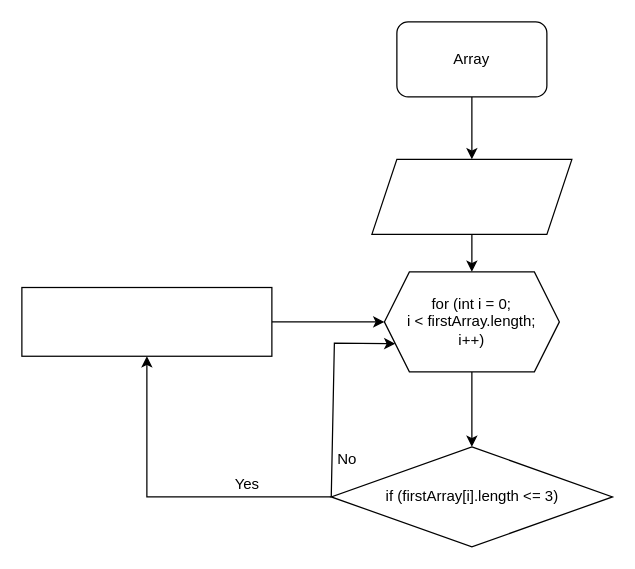
Image size: 635x569. Some labels were removed from this diagram. The box of each missing label's shape, as (x1, y1, x2, y2) in pixels:
secondArray[count] = firstArray[i] count++;: (21, 286, 272, 356)
string[5] firstArray string secondArray int count = 0: (371, 158, 572, 234)
